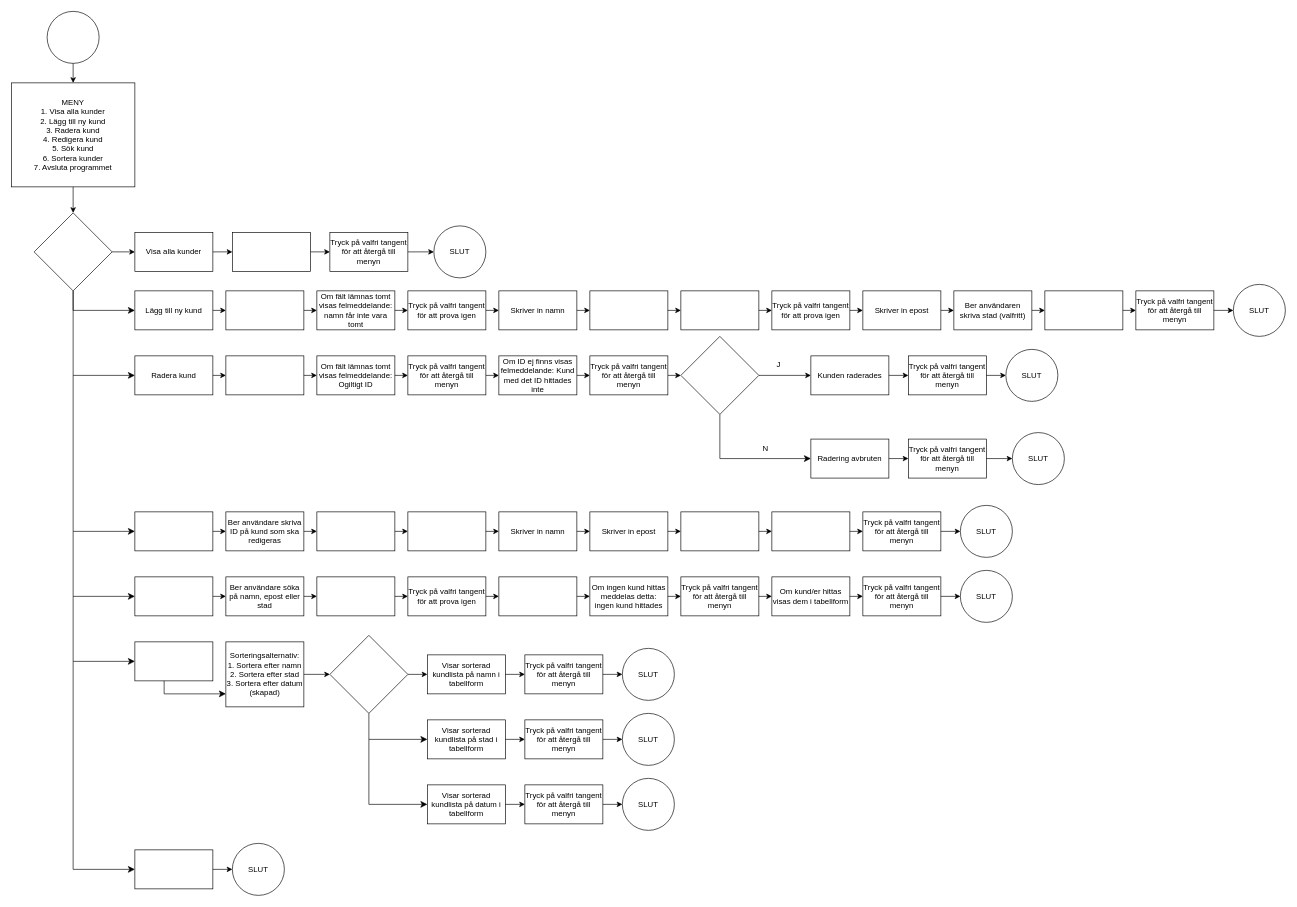
Some shapes in this 1297 by 907 pixel diagram are drawn without their labels. Here are the shapes that lost their labels. From the top down, the centre of each, then its label:
(72,37): START
(72,251): Användare väljer menyalterantiv
(271,251): Visar tabell med kunder
(264,310): Ber användare skriva namn
(628,310): Ber användaren skriva epost
(719,310): Om fält lämnas tomt eller utan @ visas felmeddelande: epost ogiltig
(1083,310): Kunden X adderades med ID X
(264,375): Ber användare skriva ID på kund som ska raderas
(719,375): Om ID finns: Är du säker? (J/N)
(173,531): Redigera kund
(355,531): Nuvarande information om kund visas
(446,531): Ber användare skriva in ny information
(719,531): Skriver in stad (valfritt)
(810,531): Kunden uppdaterades
(173,596): Sök kund
(355,596): Om fält lämnas tomt visas felmeddelande: sökfält får inte vara tomt
(537,596): Skriver in sökord
(173,661): Sortera kund
(368,674): Användare väljer sortering
(173,869): Avsluta programmet
